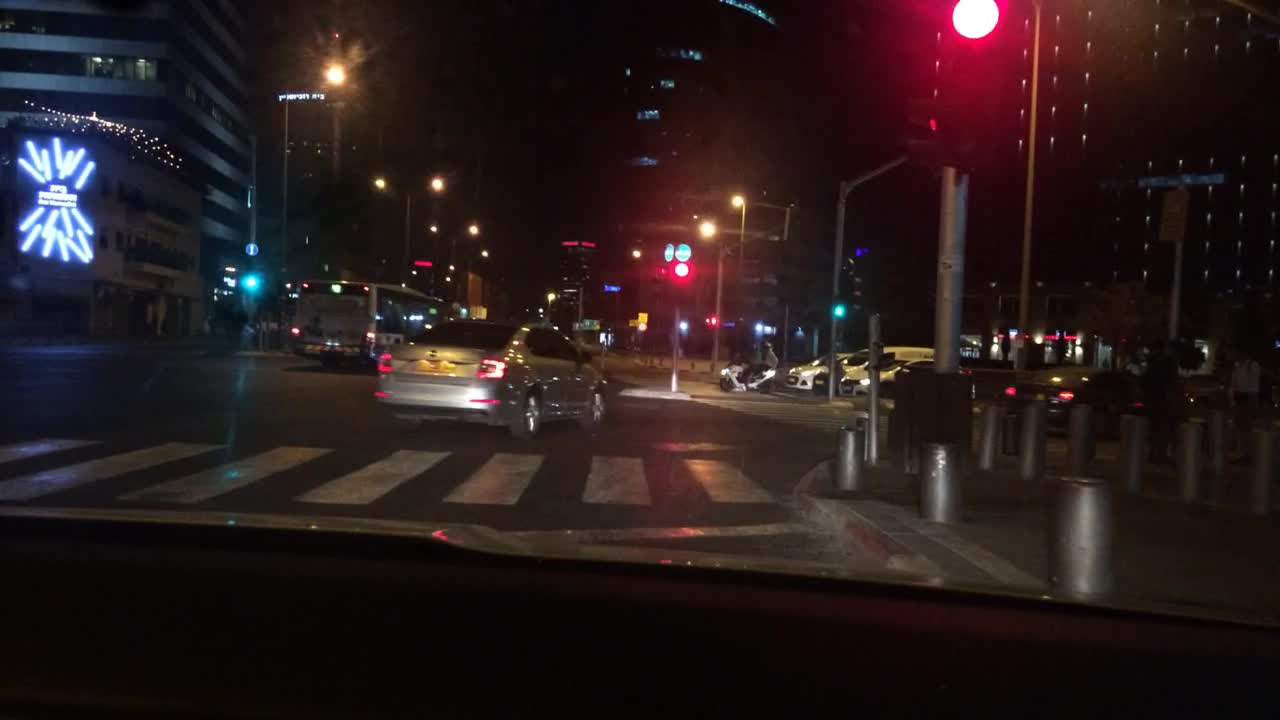bus: (288, 278, 467, 367)
car: (372, 316, 608, 440), (1001, 364, 1148, 436), (812, 343, 937, 396), (836, 356, 974, 397), (784, 350, 856, 392), (1181, 369, 1240, 412)
motor: (715, 354, 778, 393)
person: (760, 339, 781, 392)
traffic light: (948, 0, 997, 38), (239, 272, 260, 292), (832, 303, 848, 317), (673, 263, 689, 276), (707, 314, 720, 328)
traffic sign: (1157, 185, 1193, 241), (1138, 172, 1226, 186), (571, 317, 599, 331), (674, 242, 689, 262), (245, 242, 261, 256), (663, 243, 674, 262), (637, 310, 648, 323), (629, 319, 642, 327)
